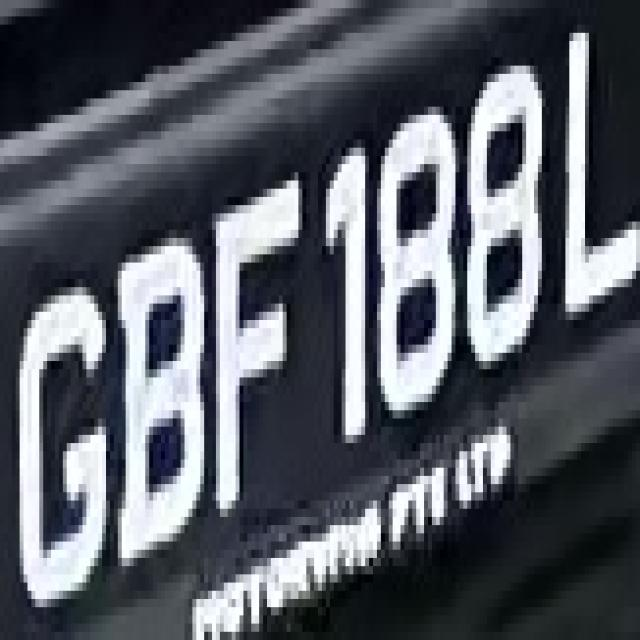1: (330, 107, 373, 492)
8: (456, 41, 554, 394), (373, 90, 459, 435)
B: (110, 222, 204, 574)
F: (197, 164, 310, 533)
G: (8, 254, 118, 632)
L: (554, 17, 636, 328)
